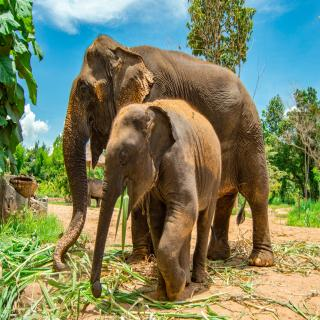Elephant: (54, 31, 279, 275), (89, 97, 220, 306)
